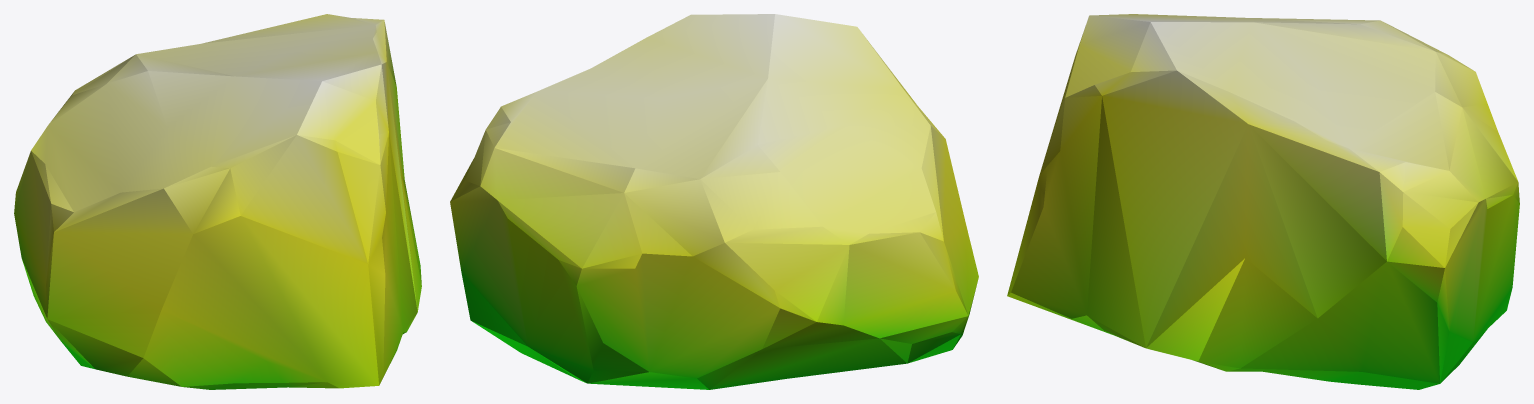
Rendered from rock_solo_05_LOD1.fbx.
3 views of the same model, side by side, from view 1: azimuth 30°, elevation 25°; view 2: azimuth 150°, elevation 25°; view 3: azimuth 270°, elevation 25° (orthographic). The views are drawn at different scales.
Parts seen in each view (by area): view 1: LOD1; view 2: LOD1; view 3: LOD1.
Part boxes in pixels (bbox=[...]): LOD1: bbox=[14, 14, 421, 389]; LOD1: bbox=[450, 14, 978, 389]; LOD1: bbox=[1007, 14, 1519, 389].
Size of the model in its own units: 734 by 432 by 708.
